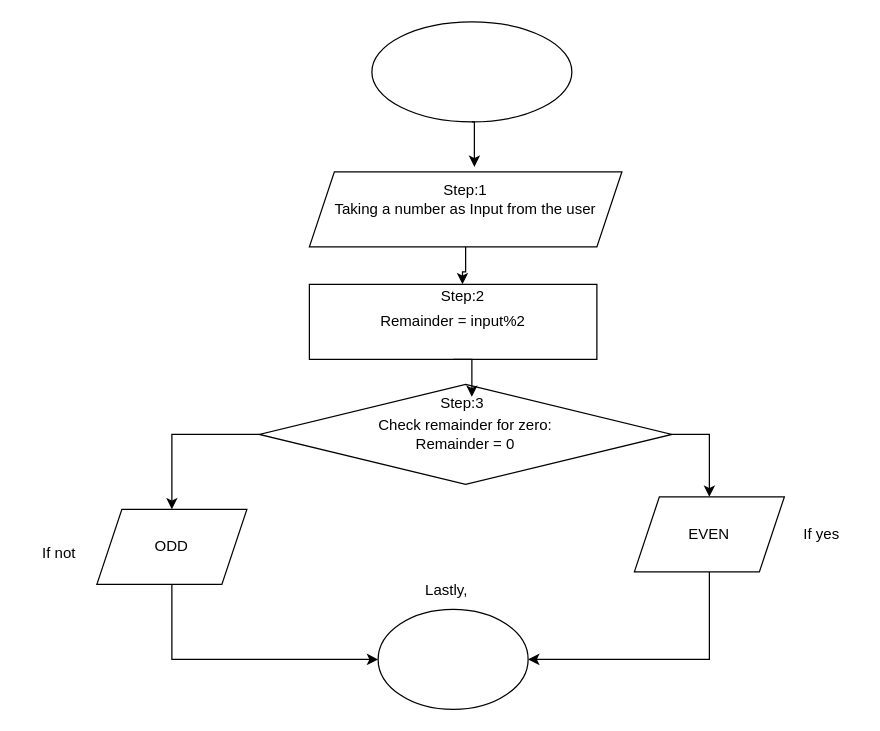
Image size: 880x731. Some labels were removed from this diagram. Here are the shapes that lost their labels. From the top down, the centre of each, then its label:
(471,71): START
(452,658): End
